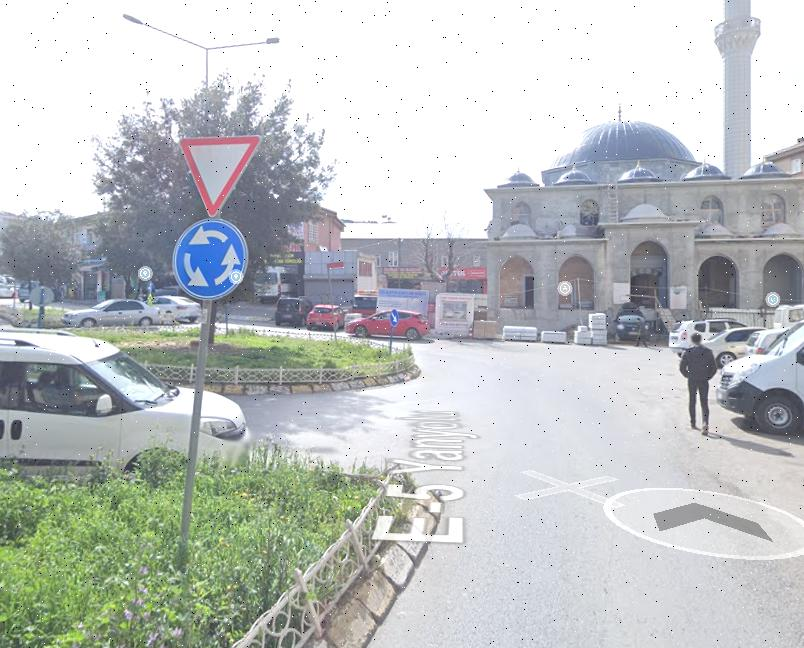crossroads: (174, 219, 250, 301)
